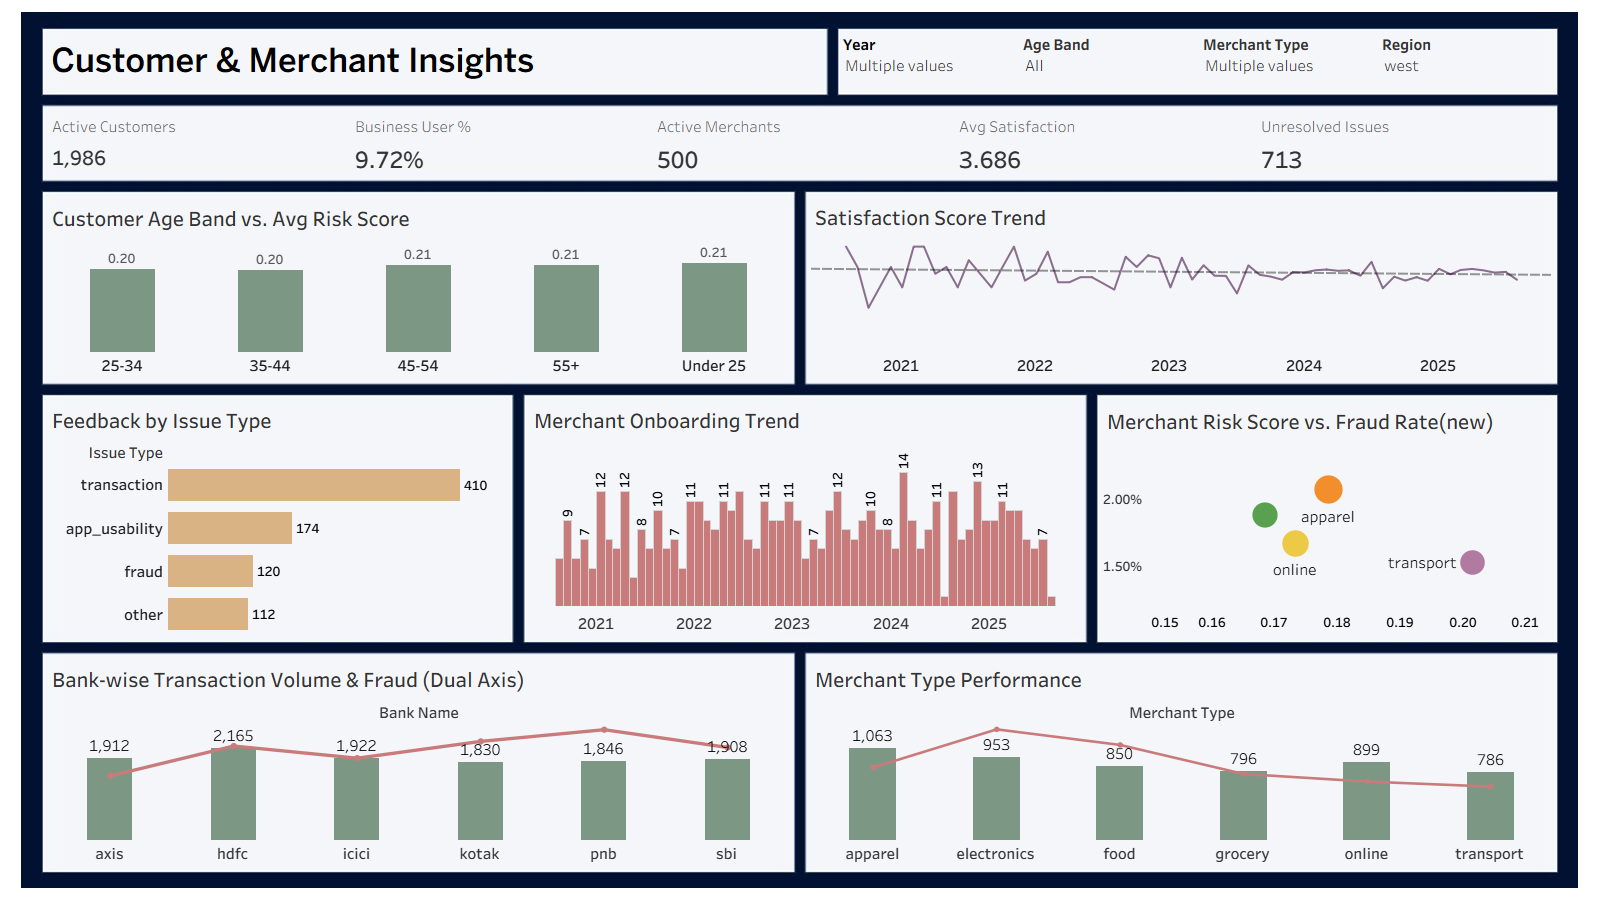

The dashboard page shown, as its layout file describes it:
{"tool":"tableau","page":{"name":"Dashboard 3","canvas":[1600,900],"ordinal":2},"visuals":[{"type":"image","param":"D:/PROJECTS/Capston Project Background/UPI Dashboard 3 .jpg","box":[8,8,1584,884]},{"type":"text","box":[44,29,783,64]},{"type":"filter","title":"Merchant Type Performance","param":"[federated.0rhq27f0kg3e8d12m7mkd1w927np].[yr:timestamp:ok]","box":[839,29,180,66]},{"type":"filter","title":"Feedback by Issue Type","param":"[federated.056slxr0fwzwe5112347t0dvpfue].[none:Calculation_1040702703820802:nk]","box":[1019,29,180,66]},{"type":"filter","title":"Merchant Type Performance","param":"[federated.0rhq27f0kg3e8d12m7mkd1w927np].[none:merchant_type:nk]","box":[1199,29,179,66]},{"type":"parameter","param":"[Parameters].[Parameter 1]","box":[1378,29,179,66]},{"type":"worksheet","title":"Active Customers","mark":"Automatic","box":[44,106,303,74]},{"type":"worksheet","title":"Business User %","mark":"Automatic","box":[347,106,302,74]},{"type":"worksheet","title":"Active Merchants","mark":"Automatic","box":[649,106,302,74]},{"type":"worksheet","title":"Avg Satisfaction","mark":"Automatic","box":[951,106,302,74]},{"type":"worksheet","title":"Unresolved Issues","mark":"Automatic","box":[1253,106,302,74]},{"type":"worksheet","title":"Satisfaction Score Trend","mark":"Automatic","rows":["satisfaction_score"],"cols":["date_submitted"],"box":[807,193,748,189]},{"type":"worksheet","title":"Customer Age Band vs. Avg Risk Score","mark":"Automatic","rows":["risk_score"],"cols":["Calculation_1040702703820802"],"box":[44,194,749,187]},{"type":"worksheet","title":"Feedback by Issue Type","mark":"Automatic","rows":["issue_type"],"cols":["feedback_id"],"box":[44,396,467,244]},{"type":"worksheet","title":"Merchant Onboarding Trend","mark":"Bar","rows":["merchant_id (merchant)"],"cols":["onboard_date"],"box":[526,396,558,244]},{"type":"worksheet","title":"Merchant Risk Score vs. Fraud Rate(new)","mark":"Circle","rows":["Calculation_0771046103609345"],"cols":["risk_score (merchant)"],"box":[1099,397,455,243]},{"type":"worksheet","title":"Bank-wise Transaction Volume & Fraud (Dual Axis)","mark":"Automatic","rows":["transaction_id","Calculation_0771046103609345"],"cols":["bank_name"],"box":[44,655,749,214]},{"type":"worksheet","title":"Merchant Type Performance","mark":"Bar","rows":["transaction_id","Calculation_0771046103609345"],"cols":["merchant_type"],"box":[807,655,749,214]}]}

Visuals, with their boxes in screenshot pixels (x1, y1, x2, y2), scaled from the page's 1600x900 canvas onto the 1600x900 screenshot:
image: 8,8,1592,892
text: 44,29,827,93
"Merchant Type Performance" filter: 839,29,1019,95
"Feedback by Issue Type" filter: 1019,29,1199,95
"Merchant Type Performance" filter: 1199,29,1378,95
parameter: 1378,29,1557,95
"Active Customers" worksheet: 44,106,347,180
"Business User %" worksheet: 347,106,649,180
"Active Merchants" worksheet: 649,106,951,180
"Avg Satisfaction" worksheet: 951,106,1253,180
"Unresolved Issues" worksheet: 1253,106,1555,180
"Satisfaction Score Trend" worksheet: 807,193,1555,382
"Customer Age Band vs. Avg Risk Score" worksheet: 44,194,793,381
"Feedback by Issue Type" worksheet: 44,396,511,640
"Merchant Onboarding Trend" worksheet (Bar marks): 526,396,1084,640
"Merchant Risk Score vs. Fraud Rate(new)" worksheet (Circle marks): 1099,397,1554,640
"Bank-wise Transaction Volume & Fraud (Dual Axis)" worksheet: 44,655,793,869
"Merchant Type Performance" worksheet (Bar marks): 807,655,1556,869
